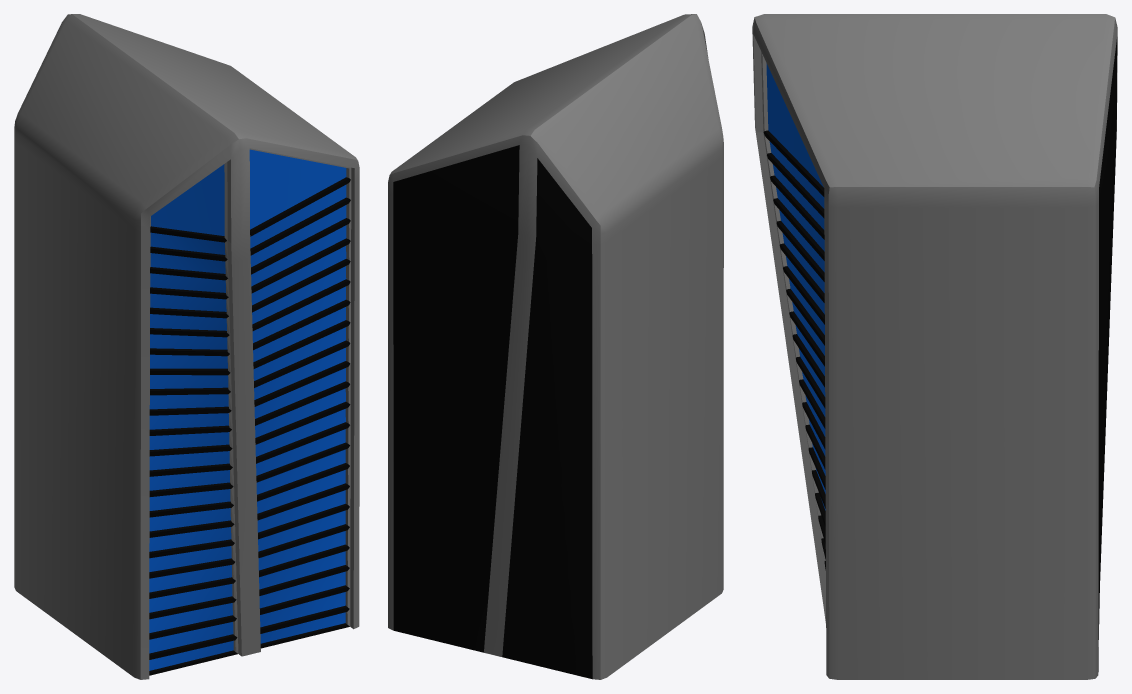
The model's file is skscraper4.fbx.
3 views of the same model, side by side, from view 1: azimuth 30°, elevation 25°; view 2: azimuth 150°, elevation 25°; view 3: azimuth 270°, elevation 25° (orthographic). The views are drawn at different scales.
Parts seen in each view (by area): view 1: Box001; view 2: Box001; view 3: Box001.
Boxes of the visible parts, x1=… form: Box001: x1=14, y1=14, x2=359, y2=679; Box001: x1=388, y1=14, x2=723, y2=679; Box001: x1=752, y1=14, x2=1117, y2=679.
Bounding box in the file's own units: 1000 × 2370 × 1343.
